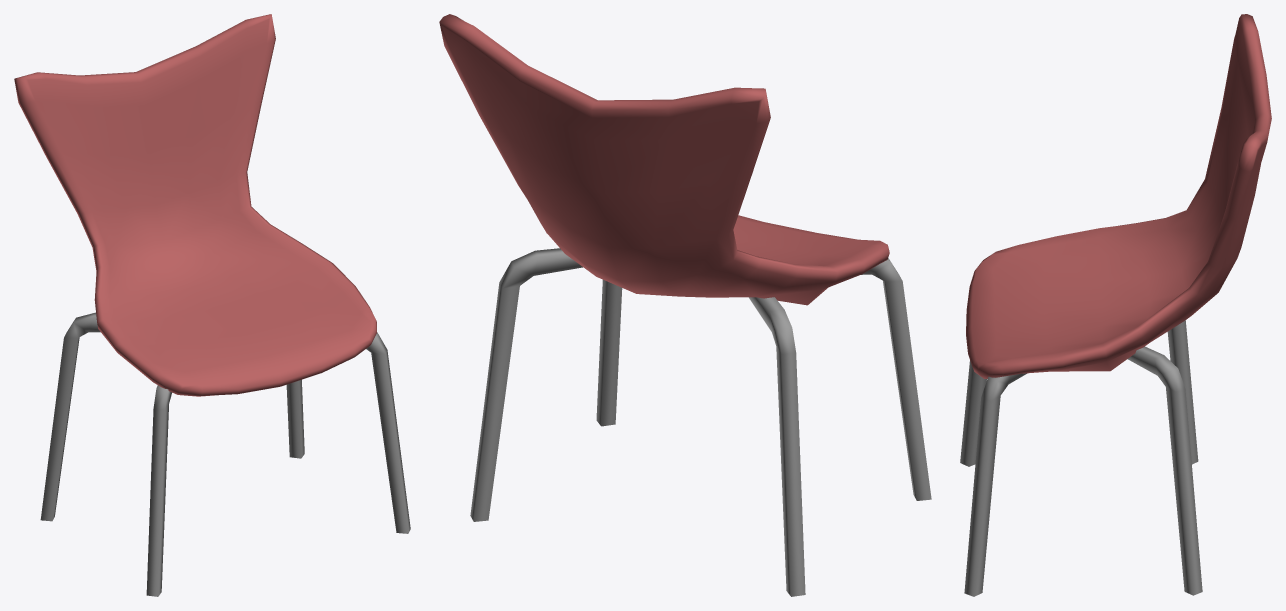
Rendered from Chair_6.fbx.
3 views of the same model, side by side, from view 1: azimuth 30°, elevation 25°; view 2: azimuth 150°, elevation 25°; view 3: azimuth 270°, elevation 25° (orthographic). The views are drawn at different scales.
Parts seen in each view (by area): view 1: Chair_6; view 2: Chair_6; view 3: Chair_6.
Boxes of the visible parts, bbox=[...] form: Chair_6: bbox=[14, 14, 410, 596]; Chair_6: bbox=[439, 14, 931, 596]; Chair_6: bbox=[960, 14, 1271, 596].
Bounding box in the file's own units: 95.18 × 90.22 × 143.
